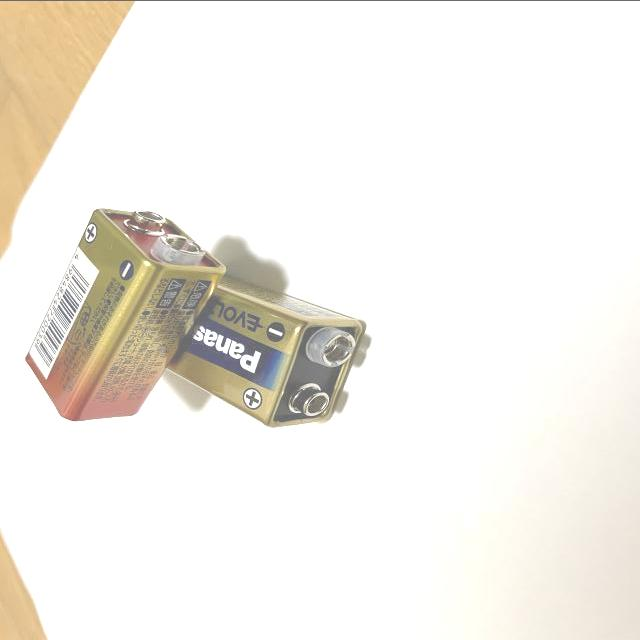9V: (25, 206, 224, 421), (166, 265, 367, 426)
